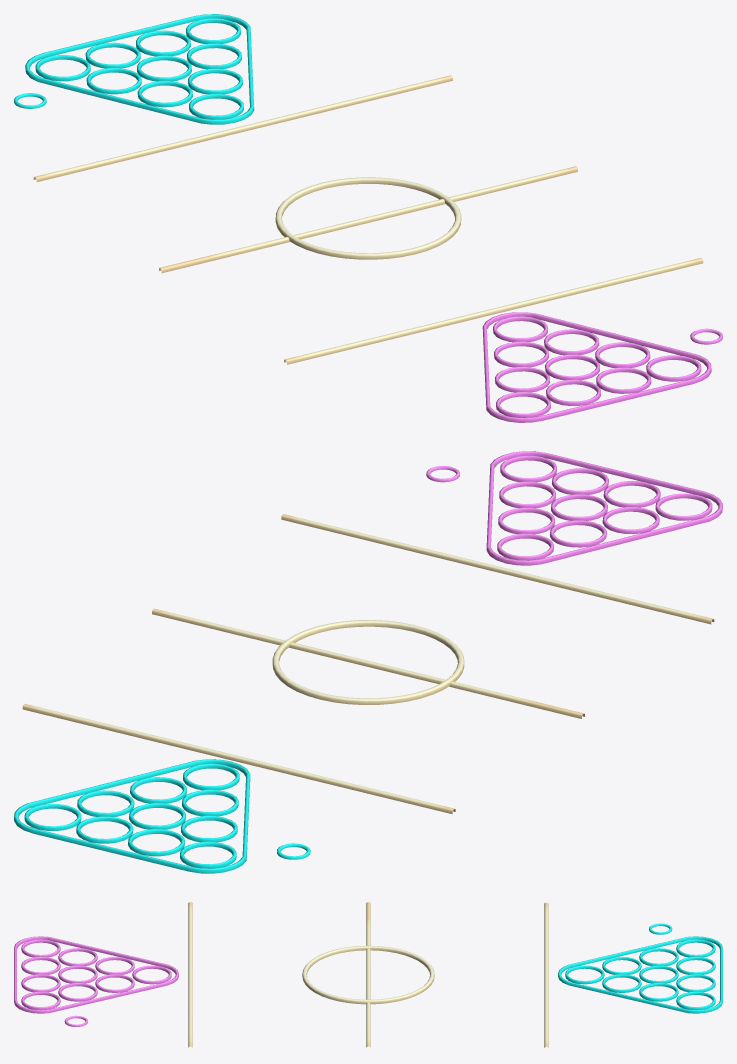
The model's file is CommunityRoomB_BeerPongTableEmiss.fbx.
3 views of the same model, one above another, from view 1: azimuth 30°, elevation 25°; view 2: azimuth 150°, elevation 25°; view 3: azimuth 270°, elevation 25° (orthographic). The views are drawn at different scales.
Parts seen in each view (by area): view 1: CommunityRoomB_BeerPongTableEmiss; view 2: CommunityRoomB_BeerPongTableEmiss; view 3: CommunityRoomB_BeerPongTableEmiss.
Part boxes in pixels (<box>): CommunityRoomB_BeerPongTableEmiss: <box>14,14,722,422</box>; CommunityRoomB_BeerPongTableEmiss: <box>14,451,722,873</box>; CommunityRoomB_BeerPongTableEmiss: <box>14,902,722,1047</box>.
Size of the model in its own units: 83.07 by 1.17 by 172.
